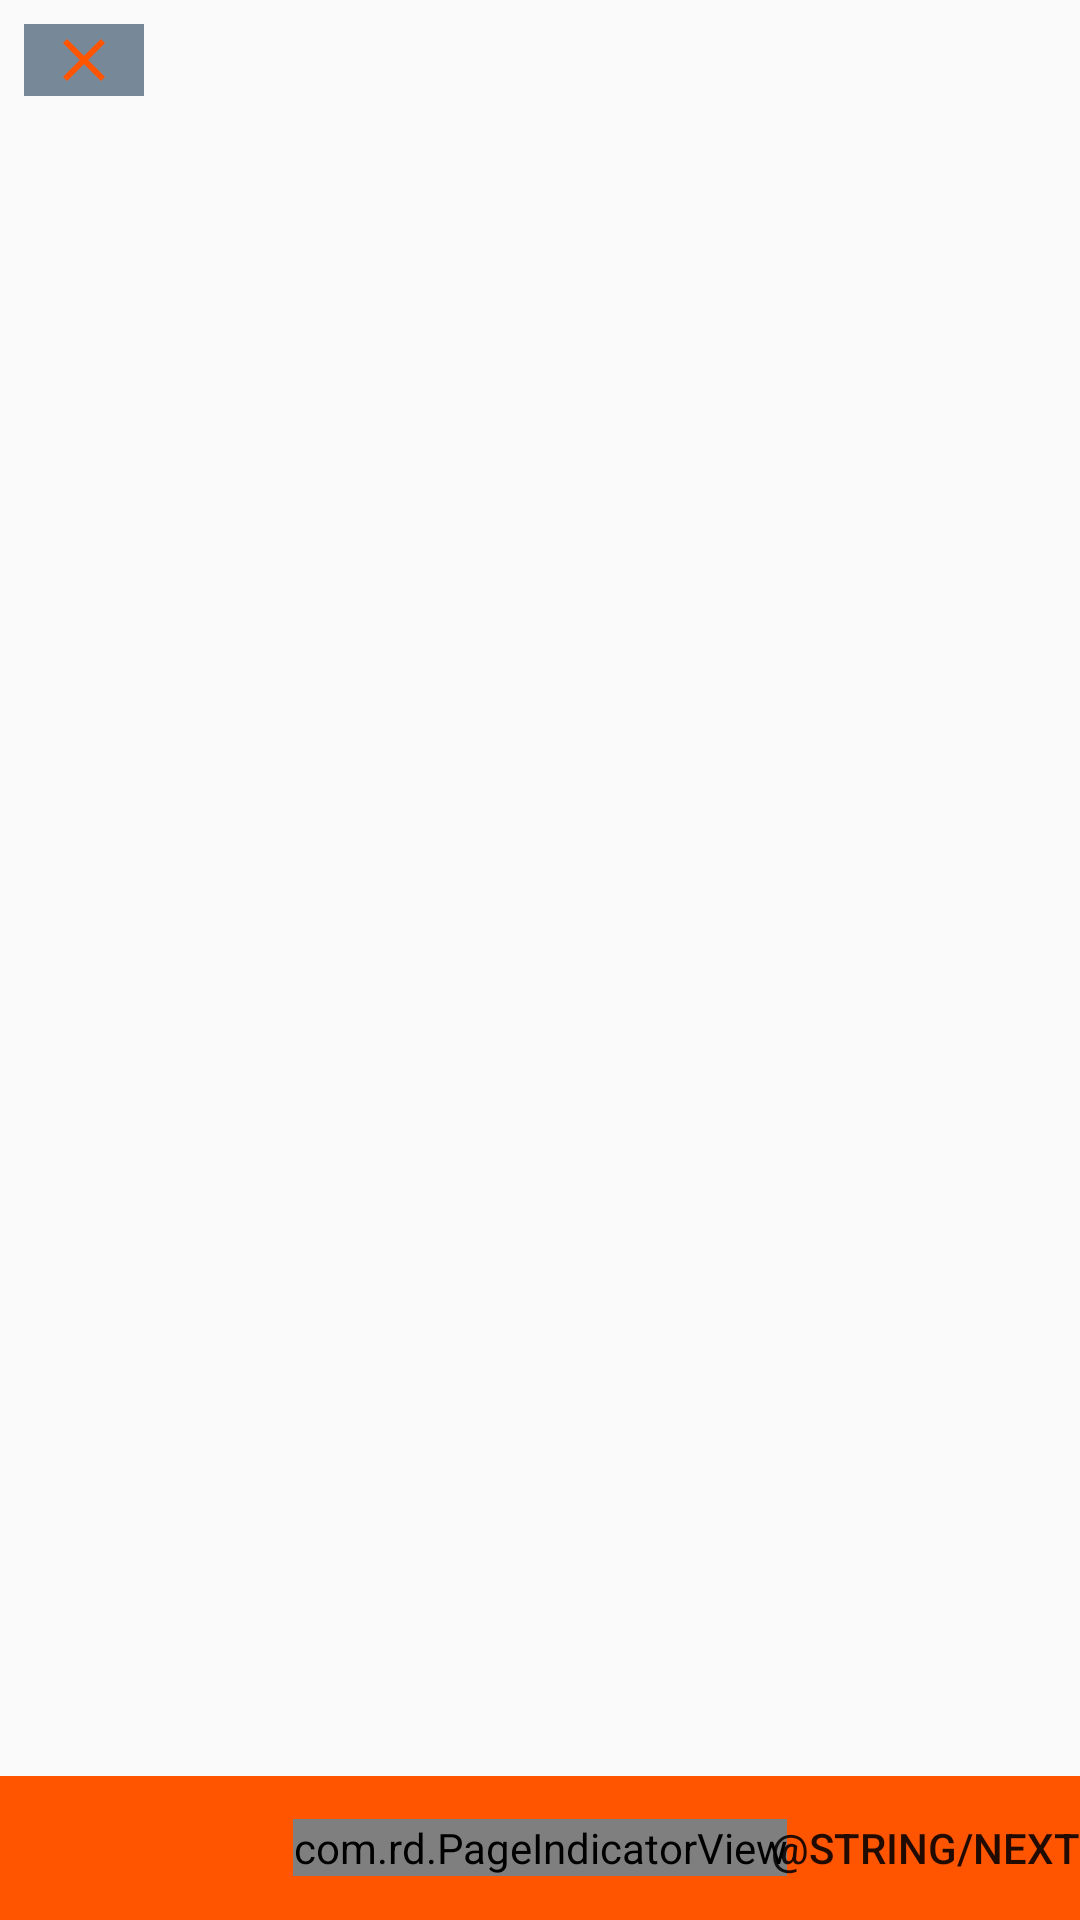

Screen size 1080px x 1920px. Icon name, then its center in pixels as [x,y]:
close: [84,60]
